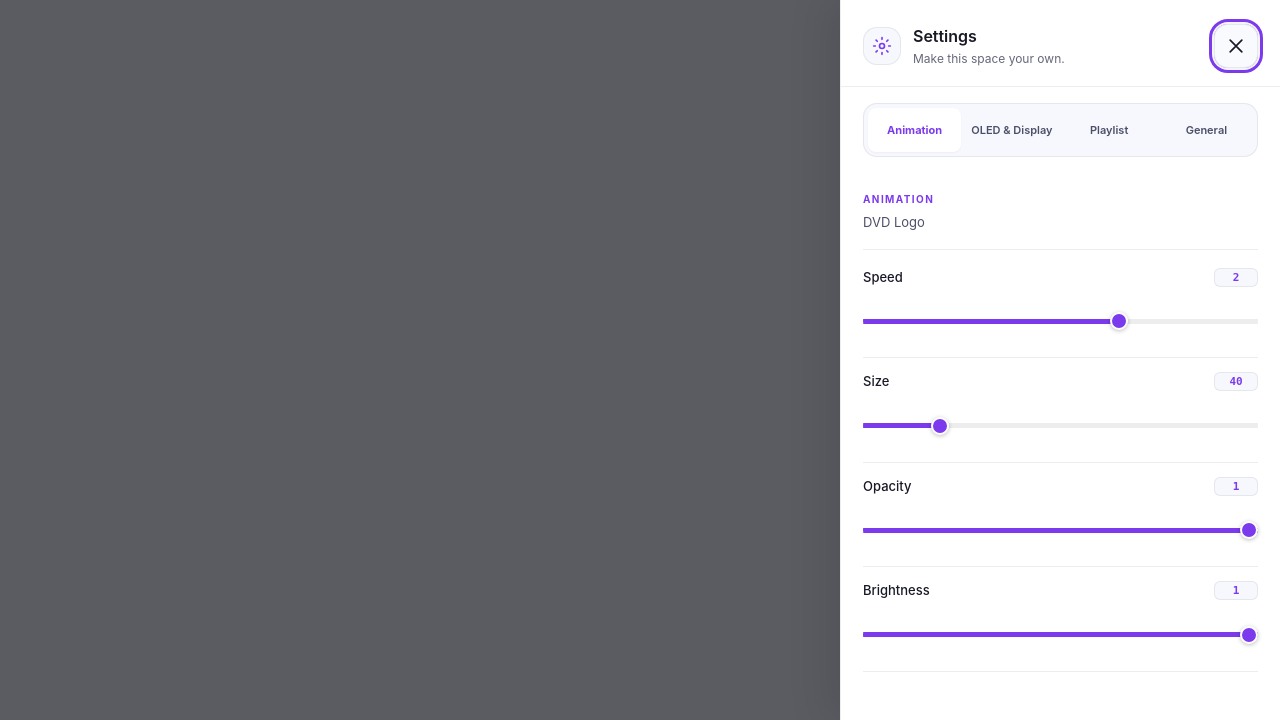
Test: SettingsPanel › keeps reset settings and reports cleanup failure after attempting both images
What coordinates should you click on to do the following:
click the tab "General"
I would click on:
 (1206, 130)
Its box is [1160,108,1253,152].
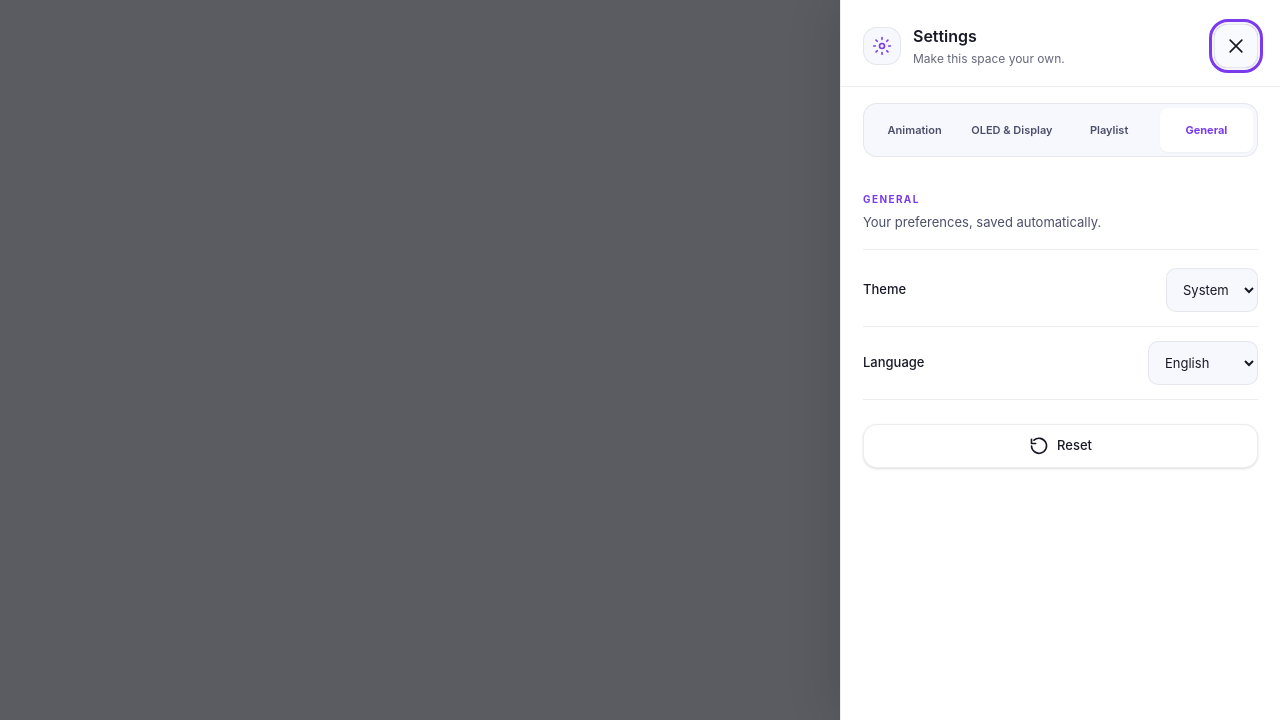
What coordinates should you click on to do the following:
click the button "Reset"
I would click on:
 (1060, 446)
Its box is [863,424,1258,468].
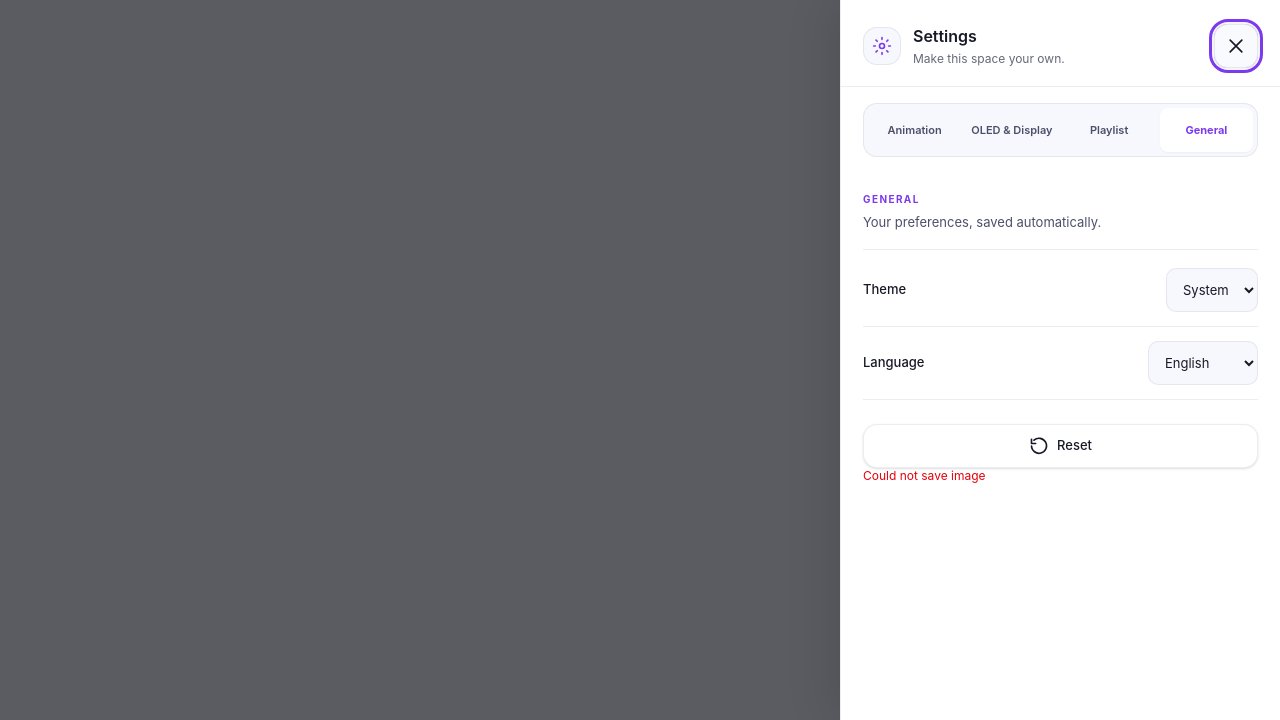
Now the message reads "Could not save image", box [863,468,986,482]
